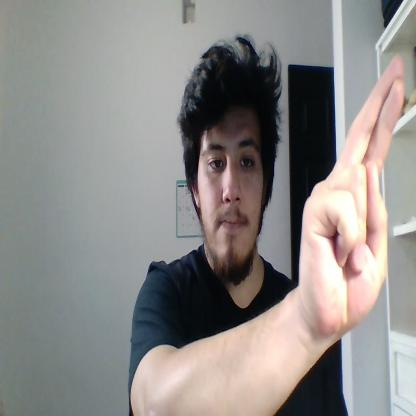R: (299, 53, 405, 337)
